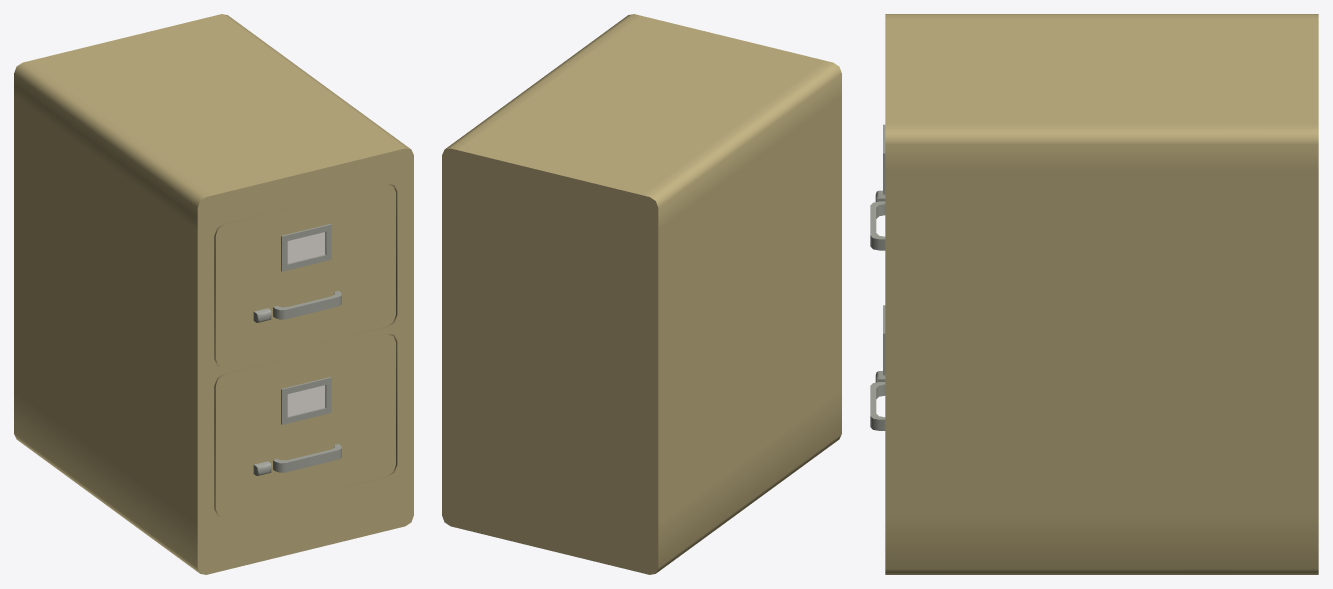
Rendered from FileCabinet.fbx.
The picture shows the model from 3 angles, left to right: view 1: azimuth 30°, elevation 25°; view 2: azimuth 150°, elevation 25°; view 3: azimuth 270°, elevation 25°; orthographic projection. The views are drawn at different scales.
Parts seen in each view (by area): view 1: File Cabinet; view 2: File Cabinet; view 3: File Cabinet.
Boxes of the visible parts, box(x1,y1,x2,y2) form: File Cabinet: box(14, 14, 413, 574); File Cabinet: box(442, 14, 841, 574); File Cabinet: box(870, 14, 1318, 574).
Bounding box in the file's own units: 43.18 × 72.09 × 65.69.
